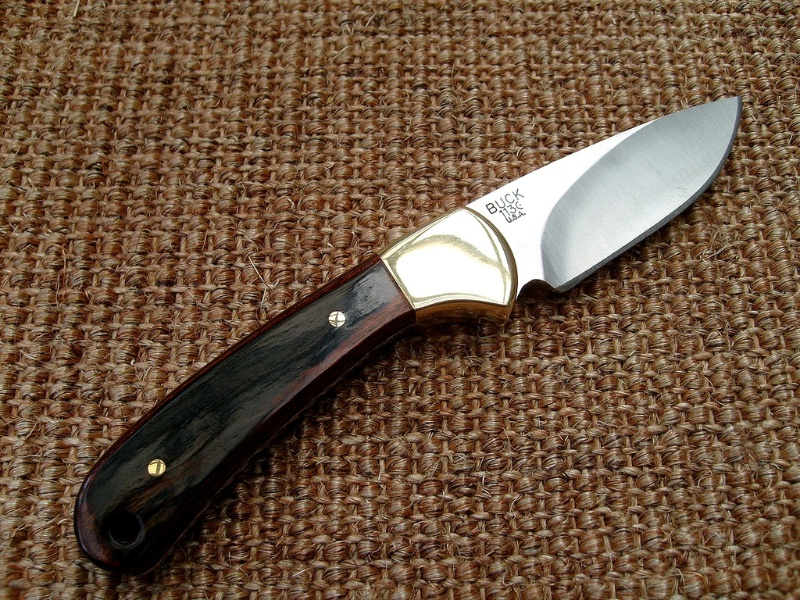knife: (75, 93, 742, 572)
